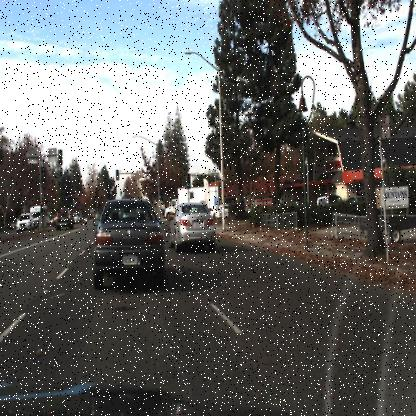car: (88, 192, 174, 302), (166, 194, 220, 260), (166, 197, 214, 253), (51, 207, 76, 233), (53, 204, 73, 232), (16, 213, 34, 231)
trafficLight-Green: (182, 169, 194, 193), (156, 181, 164, 204)
truck: (29, 199, 50, 231)
